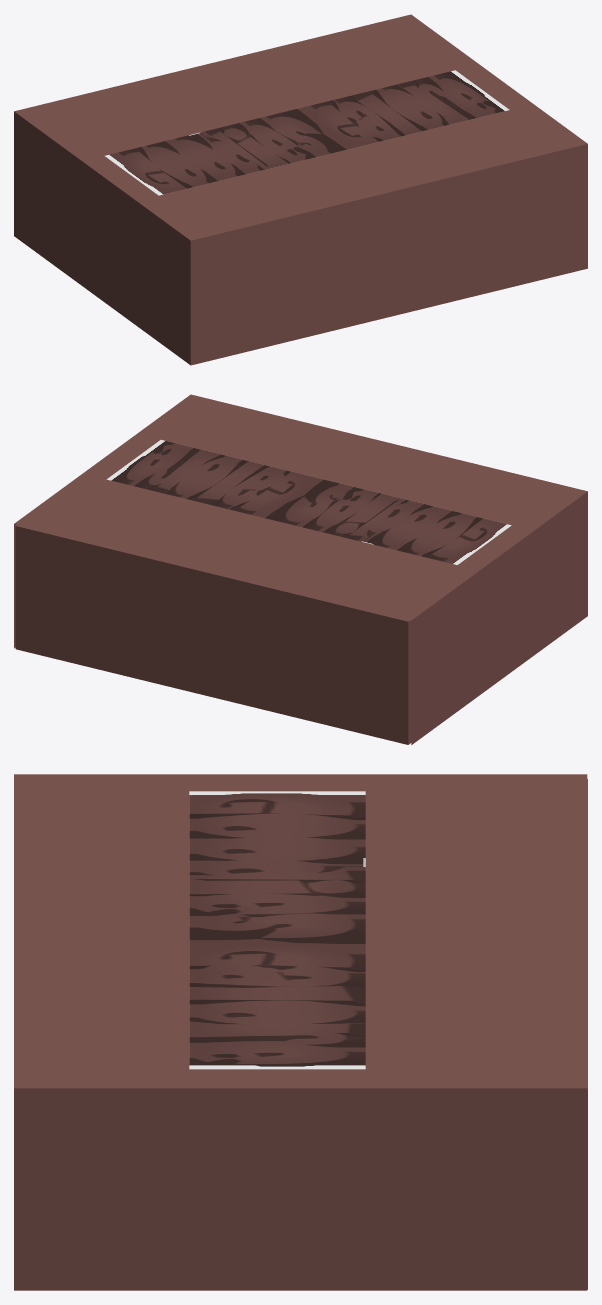
File: Bakery_Box_E_02.FBX
3 views of the same model, one above another, from view 1: azimuth 30°, elevation 25°; view 2: azimuth 150°, elevation 25°; view 3: azimuth 270°, elevation 25° (orthographic). The views are drawn at different scales.
Visible parts, largest first — view 1: Lid; view 2: Lid, Bakery_Box; view 3: Lid.
Boxes of the visible parts, <box> form: Lid: <box>14,14,587,365</box>; Lid: <box>14,394,587,744</box>; Bakery_Box: <box>15,524,411,744</box>; Lid: <box>14,774,587,1290</box>.
Size of the model in its own units: 152 by 45.62 by 117.
